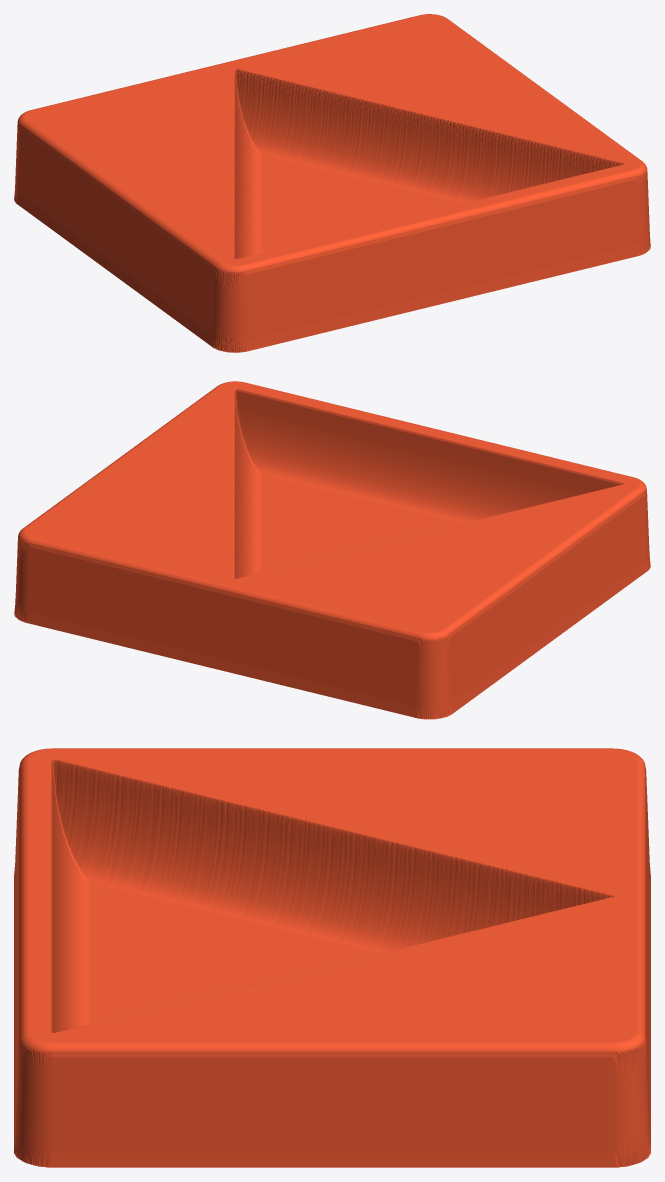
Rendered from mold.glb.
The picture shows the model from 3 angles, top to bottom: view 1: azimuth 30°, elevation 25°; view 2: azimuth 150°, elevation 25°; view 3: azimuth 270°, elevation 25°; orthographic projection. The views are drawn at different scales.
Visible parts, largest first — view 1: geometry_0; view 2: geometry_0; view 3: geometry_0.
Boxes of the visible parts, x1,y1,x2,y2 form: geometry_0: [14, 14, 650, 352]; geometry_0: [14, 381, 650, 719]; geometry_0: [14, 748, 650, 1167].
Bounding box in the file's own units: 0.1709 × 0.031 × 0.1505.
